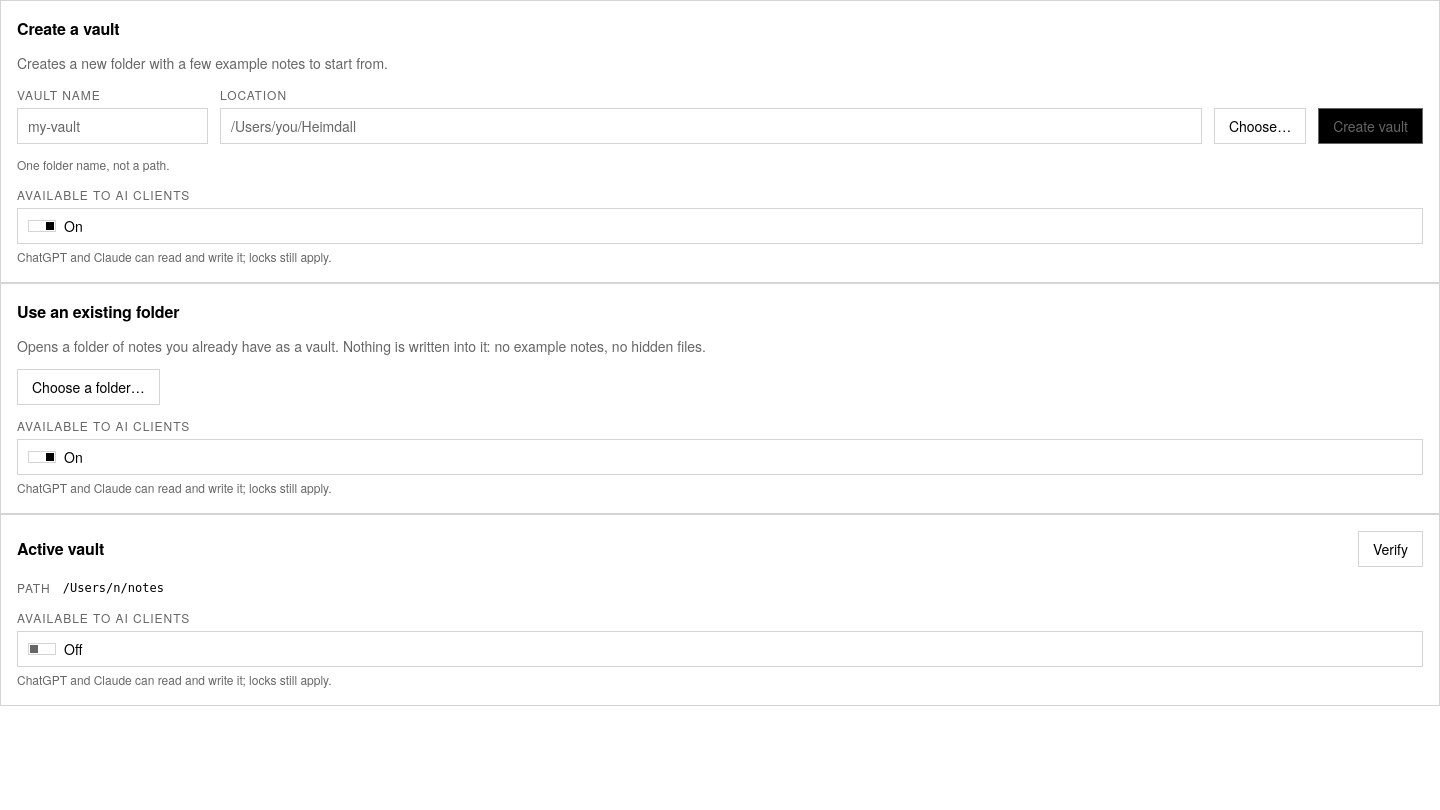
Scenario: Setup › verifies the active vault by reading its root
The width and height of the screenshot is (1440, 810).
Click the button "Verify" at (1390,549), box top-left (1358, 531), bottom-right (1423, 567)
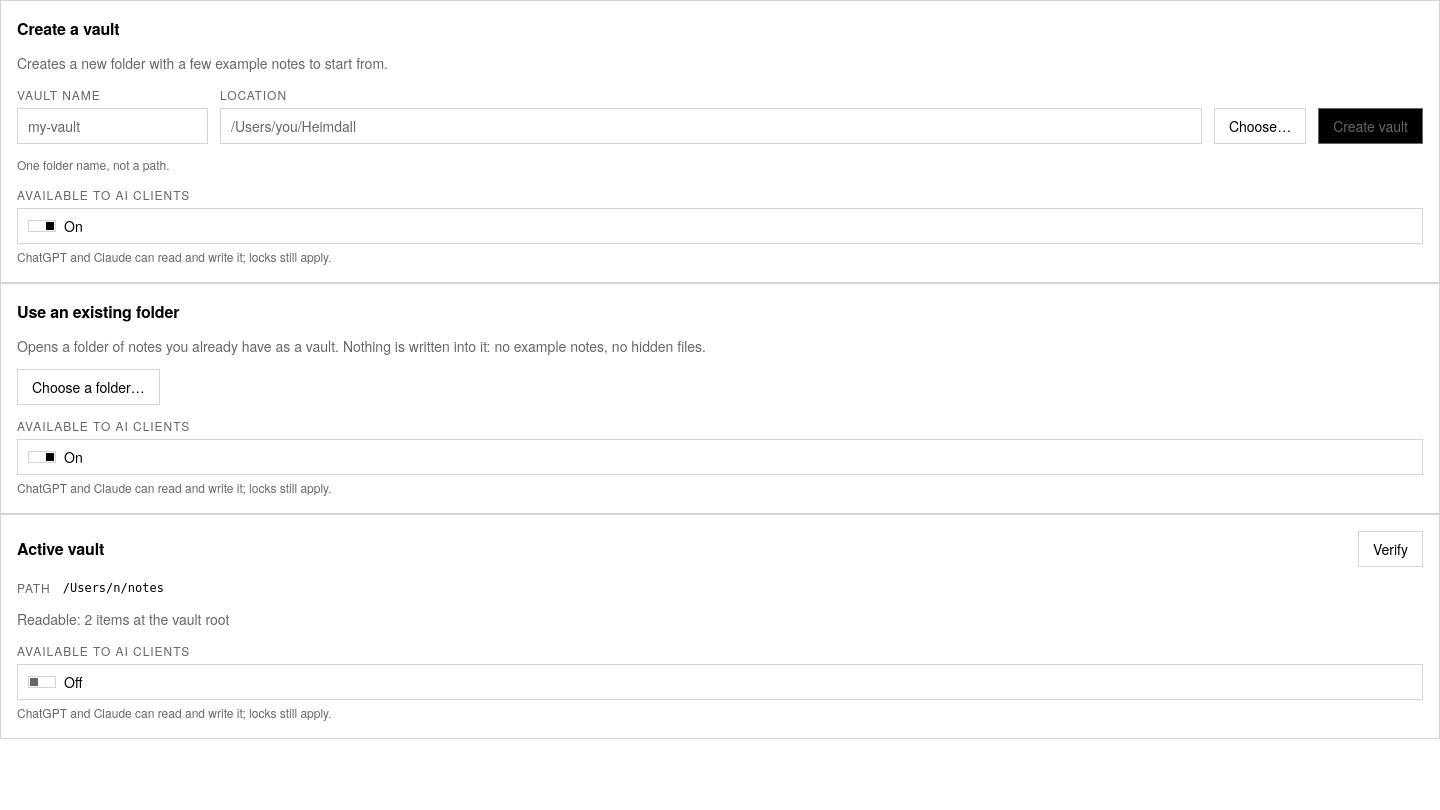
Now the text "Readable: 2 items at the vault root" is shown, box top-left (17, 609), bottom-right (229, 629)
